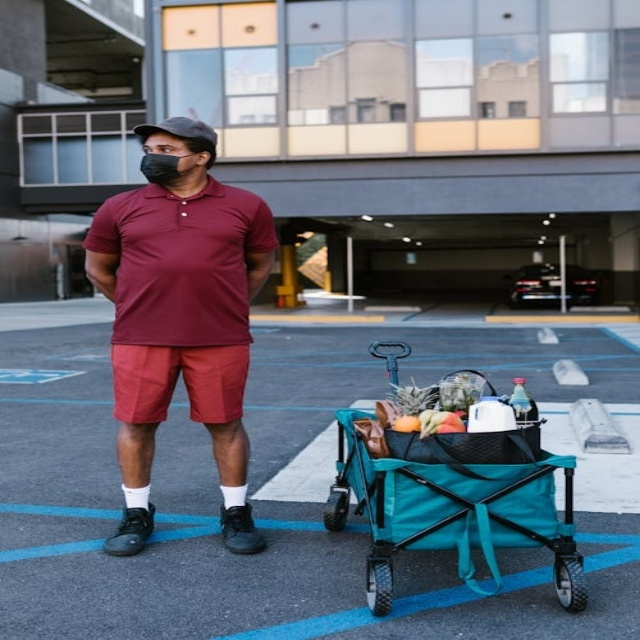Mascara: (139, 152, 195, 183)
Sin_gafas: (141, 141, 182, 154)
